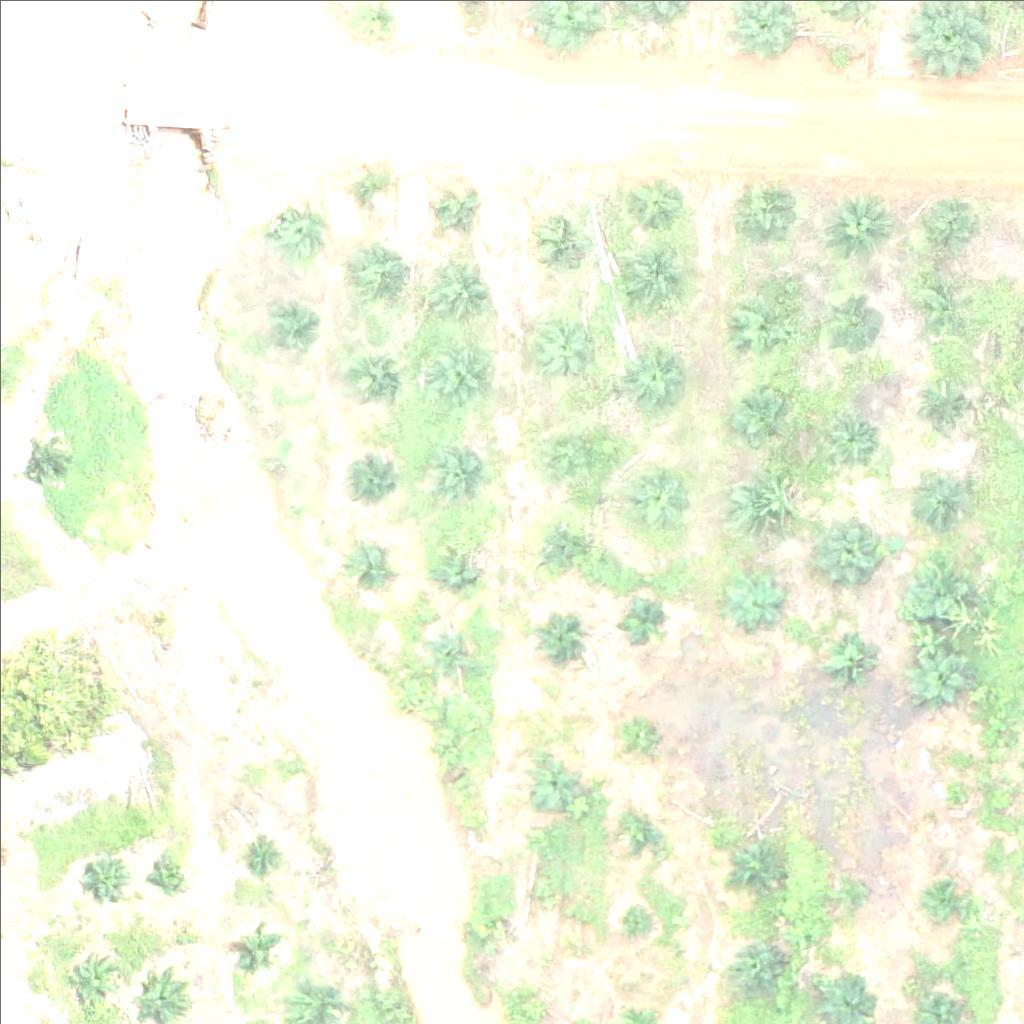Kelapa_Sawit: (543, 412, 606, 475), (428, 436, 491, 499), (820, 619, 883, 682), (816, 519, 879, 582), (829, 192, 892, 255), (430, 339, 493, 402), (733, 294, 796, 357), (735, 187, 798, 250), (819, 287, 882, 350), (623, 170, 686, 233), (343, 243, 406, 306), (429, 258, 492, 321), (906, 643, 969, 706), (63, 947, 126, 1010), (733, 380, 795, 443), (622, 465, 684, 528), (723, 567, 785, 630), (620, 248, 682, 311), (908, 274, 970, 337), (623, 344, 685, 407), (534, 306, 596, 369), (529, 208, 591, 271), (344, 348, 406, 411), (905, 554, 967, 617), (727, 467, 789, 530), (913, 193, 975, 255), (727, 941, 777, 992), (728, 838, 778, 889), (429, 185, 479, 236), (343, 164, 393, 215), (617, 806, 667, 857), (920, 467, 970, 517), (912, 374, 962, 424), (829, 411, 879, 461), (340, 450, 390, 500), (533, 619, 583, 669), (615, 594, 665, 644), (426, 624, 476, 674), (527, 755, 577, 805), (430, 539, 480, 589), (344, 540, 394, 590), (272, 199, 322, 249), (262, 304, 312, 354), (19, 430, 69, 480), (536, 515, 586, 565), (78, 852, 128, 902), (289, 971, 339, 1021), (430, 729, 468, 767), (618, 718, 656, 756), (240, 928, 278, 966), (239, 837, 277, 875), (152, 854, 190, 892), (526, 877, 564, 915), (924, 881, 962, 919), (463, 915, 500, 953), (829, 875, 866, 913), (617, 897, 654, 934)
